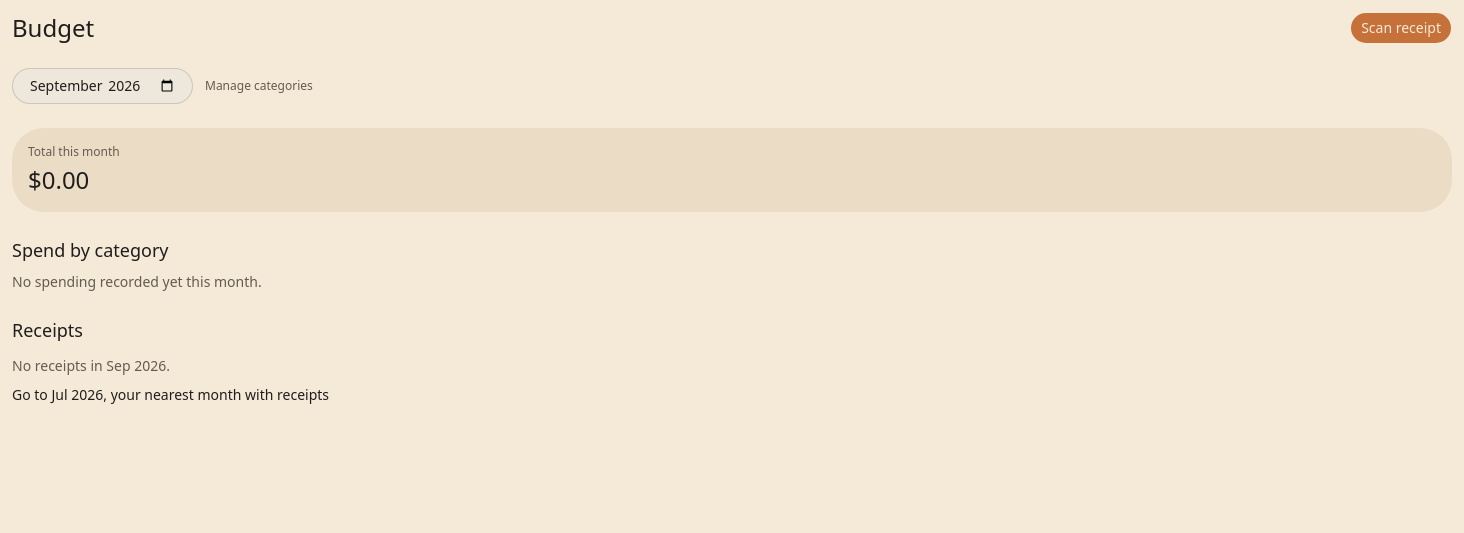
Test: BudgetPage › explains an empty month by pointing at the nearest month that has a receipt, and can go there
Expected: the text "No receipts in Sep 2026." is shown, x1=12 y1=356 x2=170 y2=375
Click the button "Go to Jul 2026, your nearest month with receipts".
click(170, 395)  # box x1=12 y1=385 x2=329 y2=405
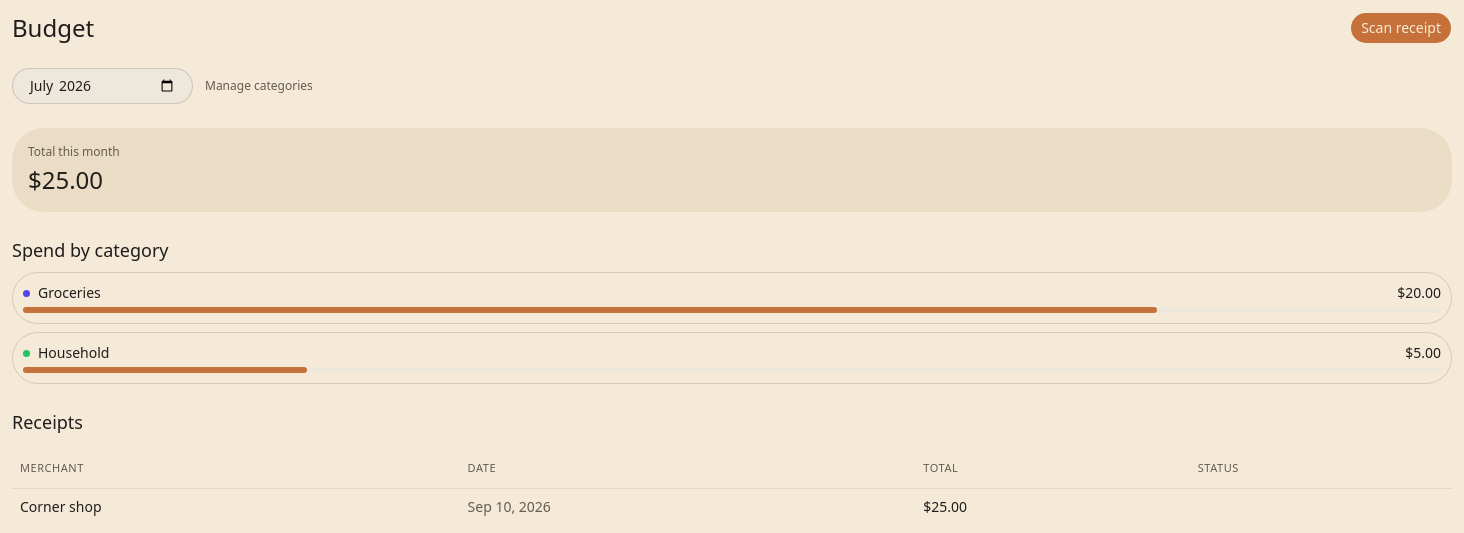
Now the link "Corner shop" is shown, box x1=20 y1=496 x2=102 y2=516
Now the text "No receipts in Sep 2026." is gone
